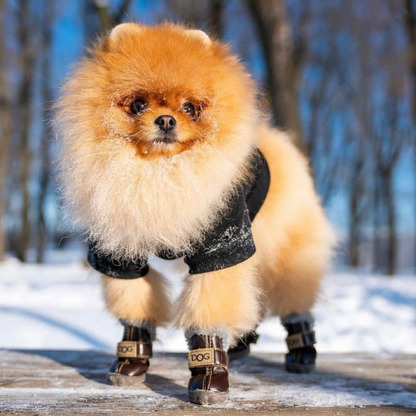Pomeranian: (38, 23, 351, 390)
